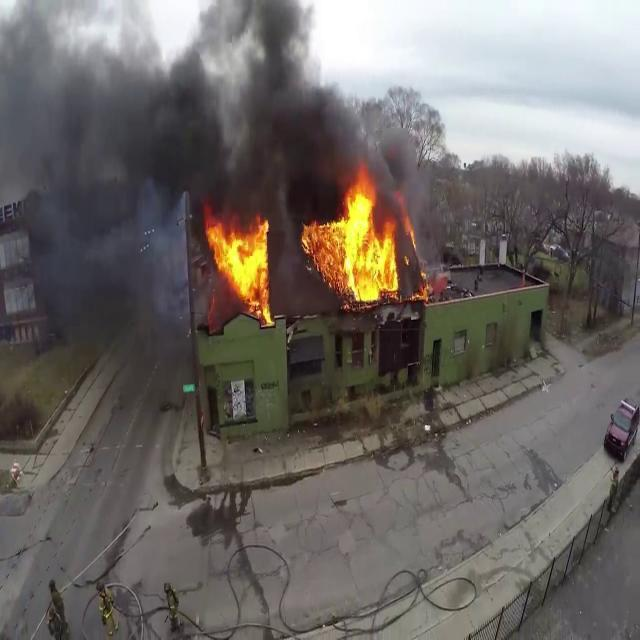Fire: (304, 170, 414, 306), (205, 214, 273, 322)
Smoke: (0, 0, 367, 244)
